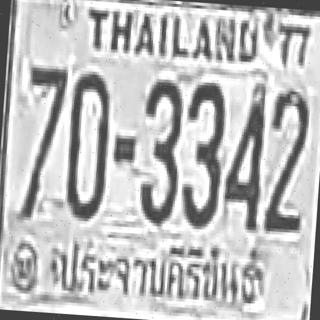N00: (63, 69, 112, 218)
N02: (263, 87, 310, 227), (264, 86, 310, 217)
N03: (135, 75, 184, 224), (178, 80, 225, 226)
N04: (220, 80, 266, 228)
N07: (17, 64, 67, 219)
P50: (51, 229, 267, 317)
